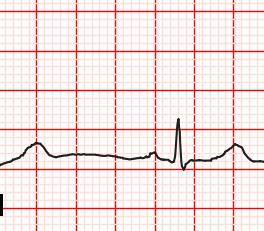LVH: (210, 138, 258, 167)
